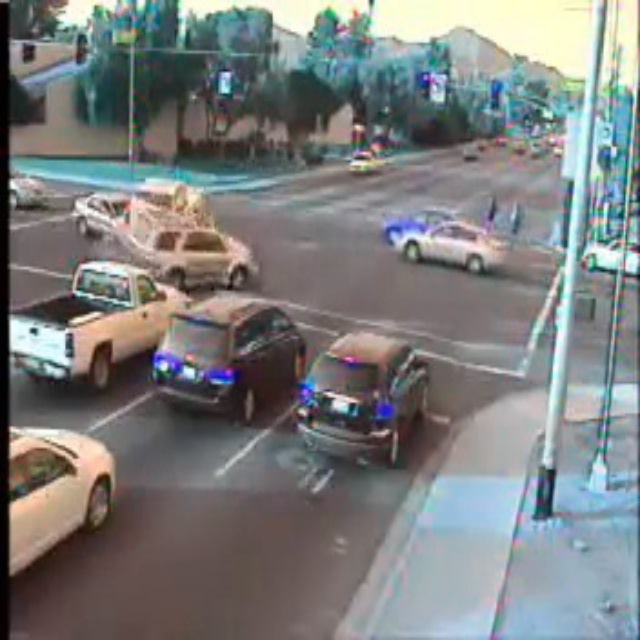acc: (71, 174, 262, 285)
